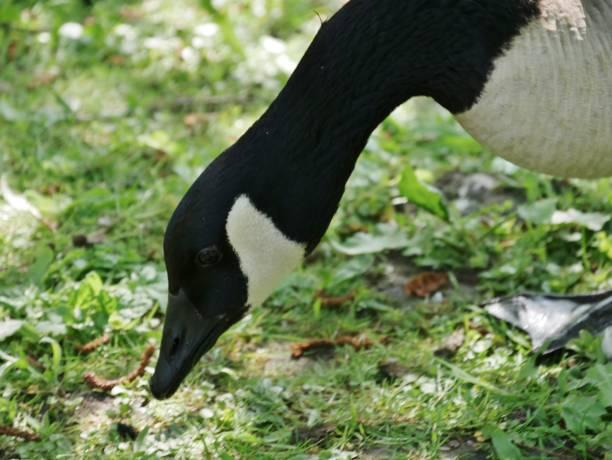Canadian-Goose: (132, 0, 612, 398)
